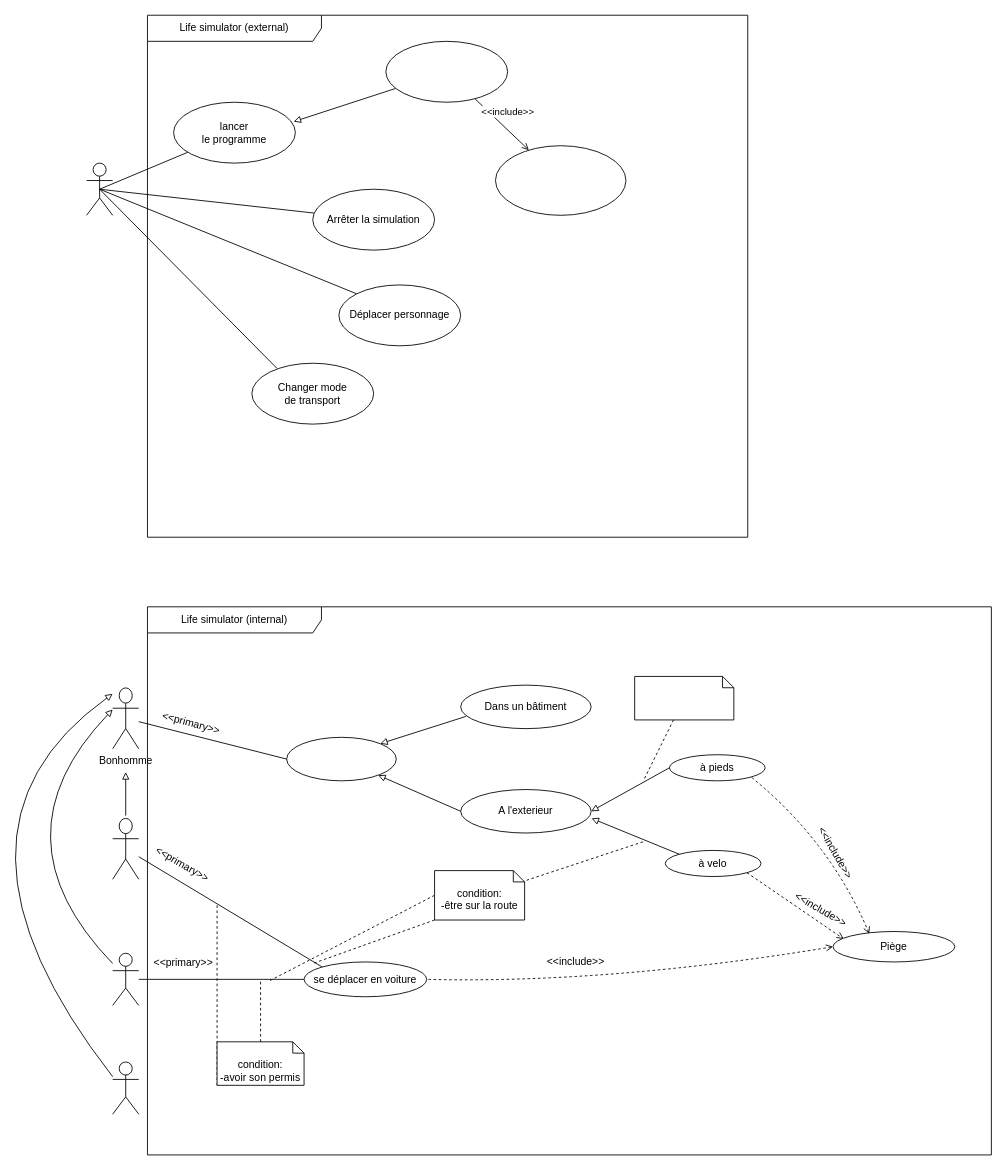
This 1007x1170 diagram has some shape labels left out. The centre of each missing label's shape, as x and y in pixels:
Choisir personnage et autres caractéristiques: the point at 560,180
condition: -être sur un trottoir: the point at 684,698
Hippie: the point at 125,1087
Homme pressé: the point at 125,978
nouvelle partie: the point at 446,71
Se déplacer: the point at 341,758
Standard: the point at 125,848
User: the point at 99,188
